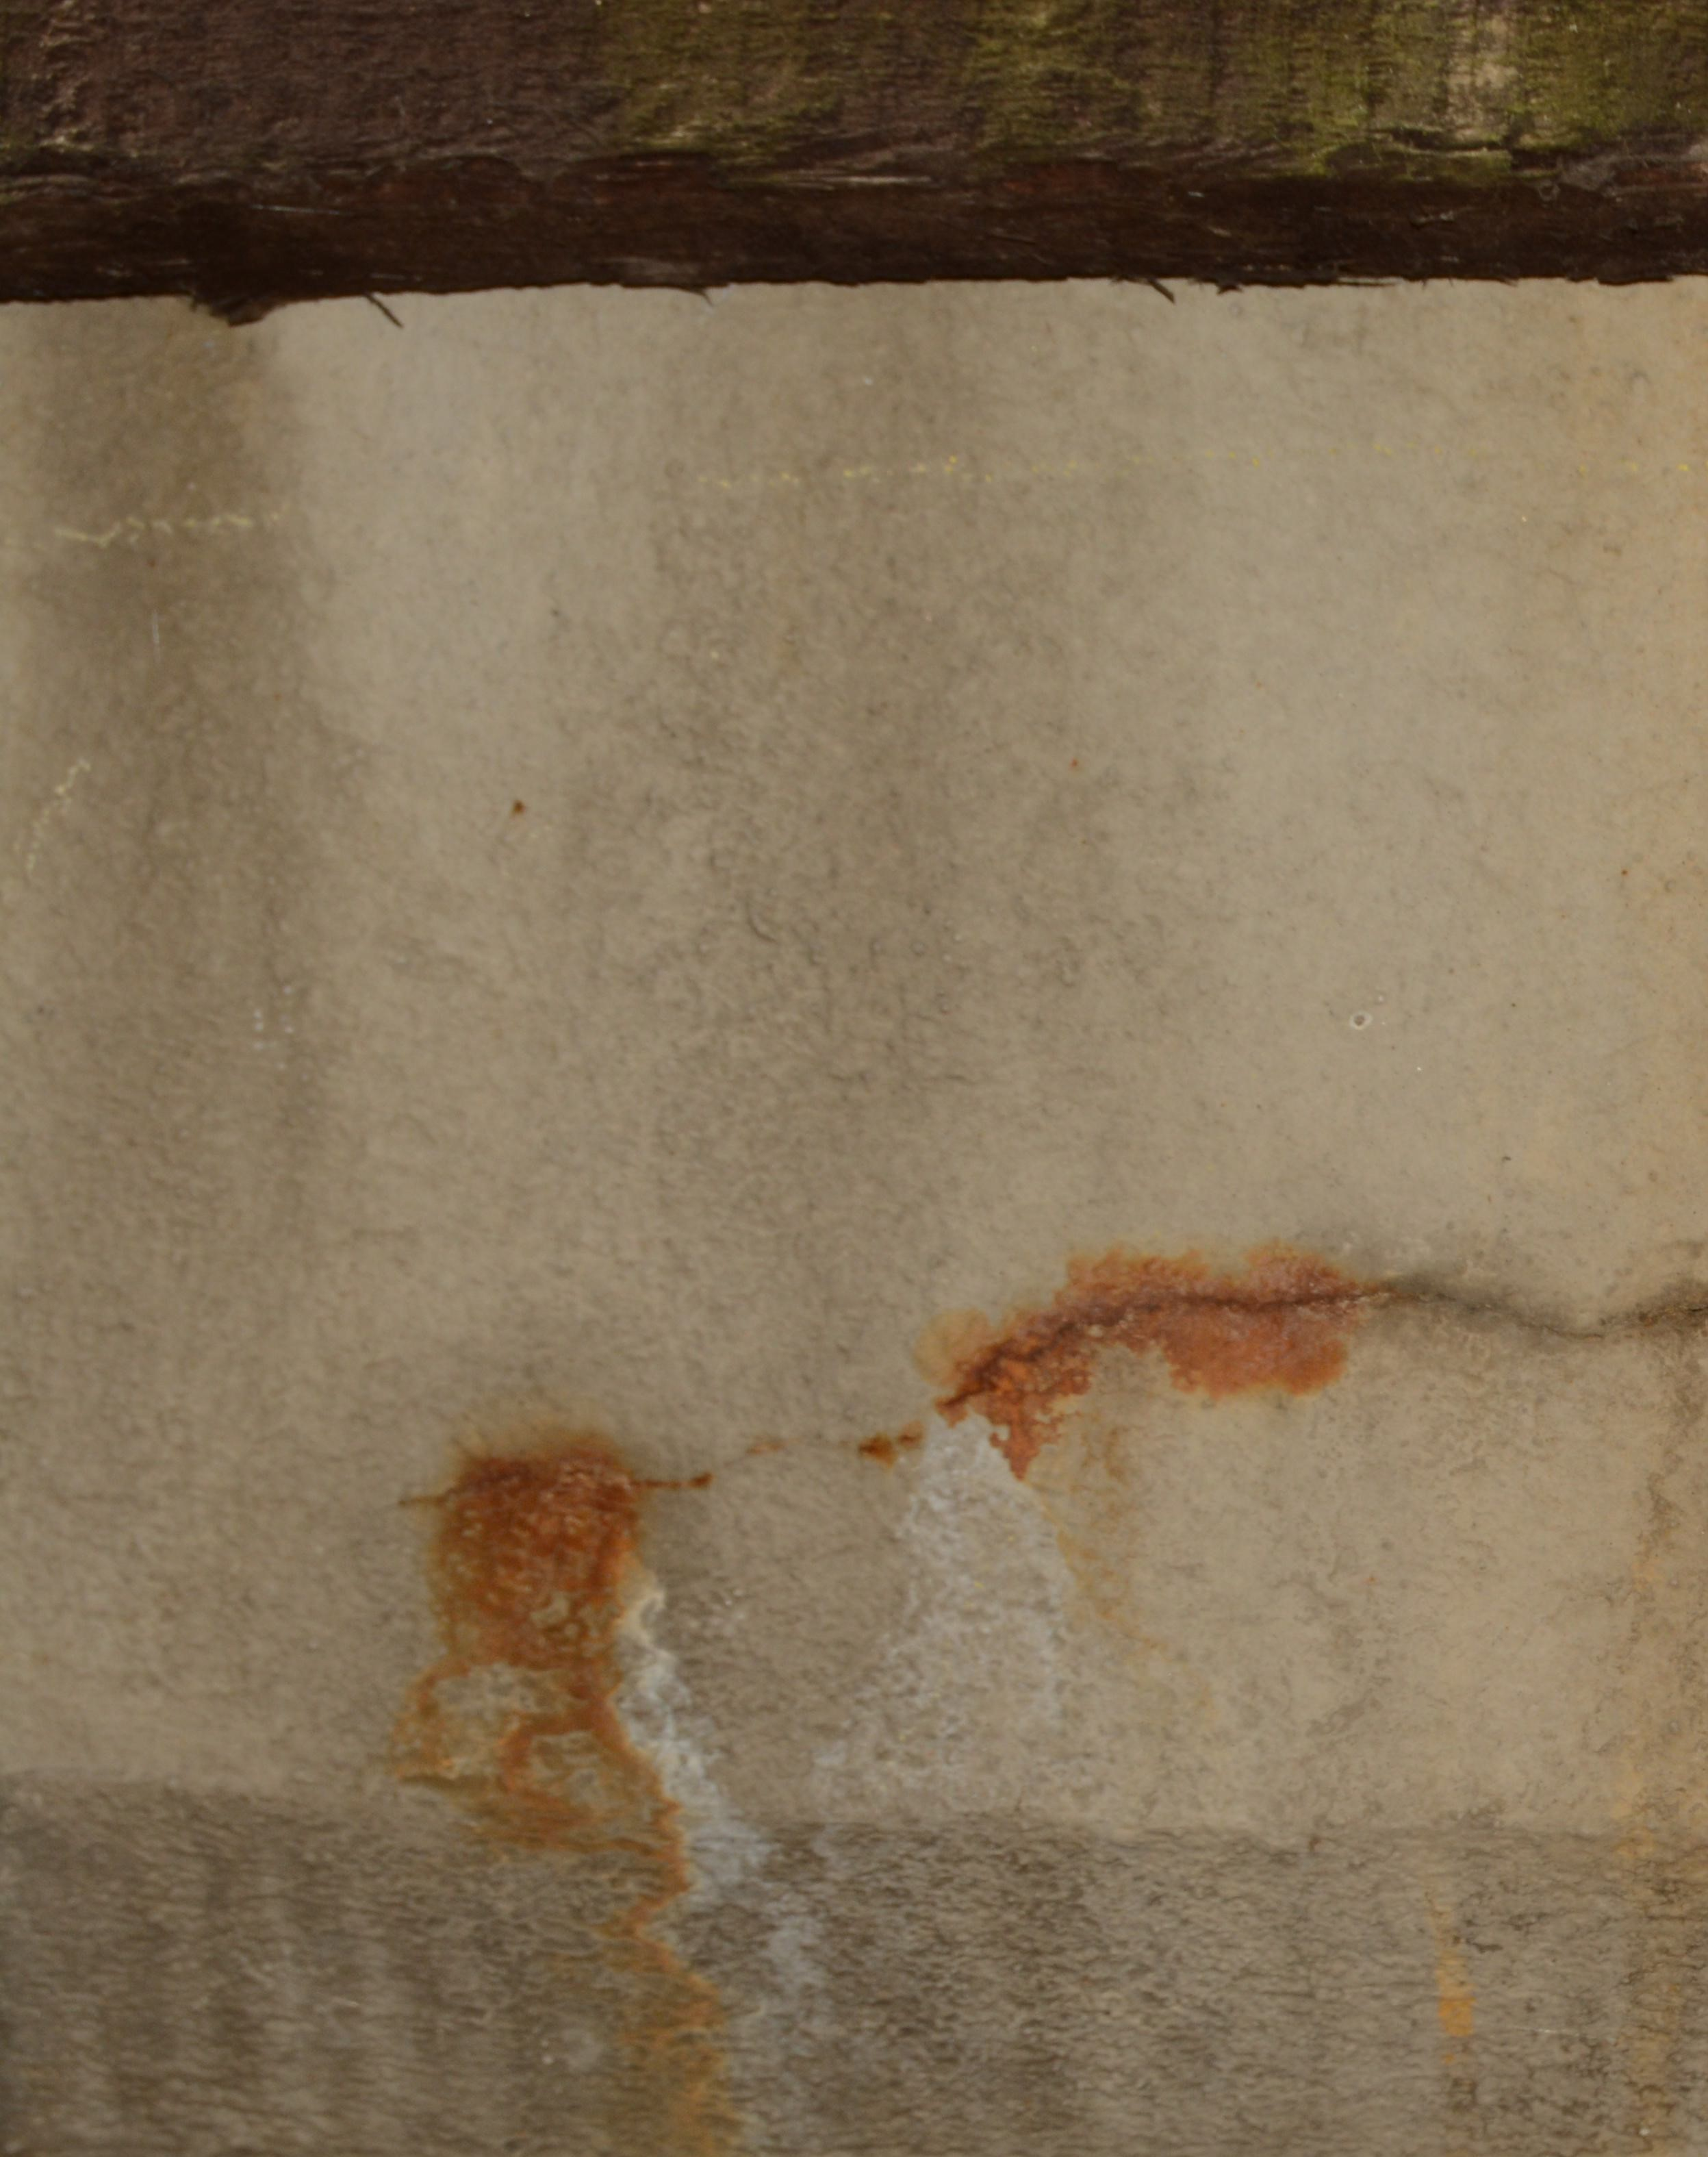Corrosion: (402, 1423, 735, 2157), (859, 1247, 1372, 1483)
Crack: (394, 1276, 1708, 1511)
